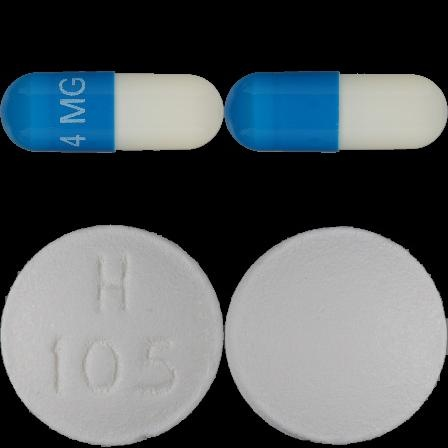21695-373: (0, 0, 224, 224)
